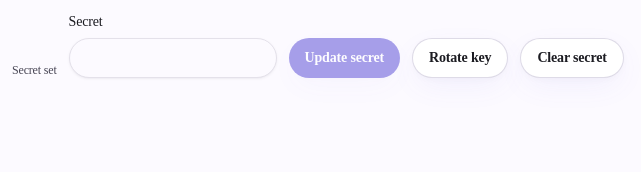
Test: SetCredentialSecretForm › shows an inline error when clearing fails
Click the button "Clear secret": (572, 58) [520,38,624,78]
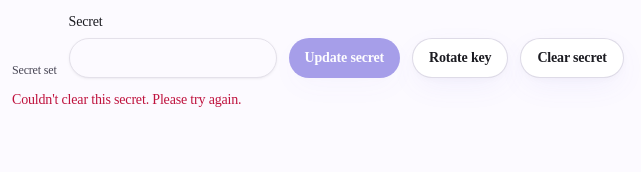
Check: the text "Couldn't clear this secret. Please try again." is shown, box [12,92,241,107]
